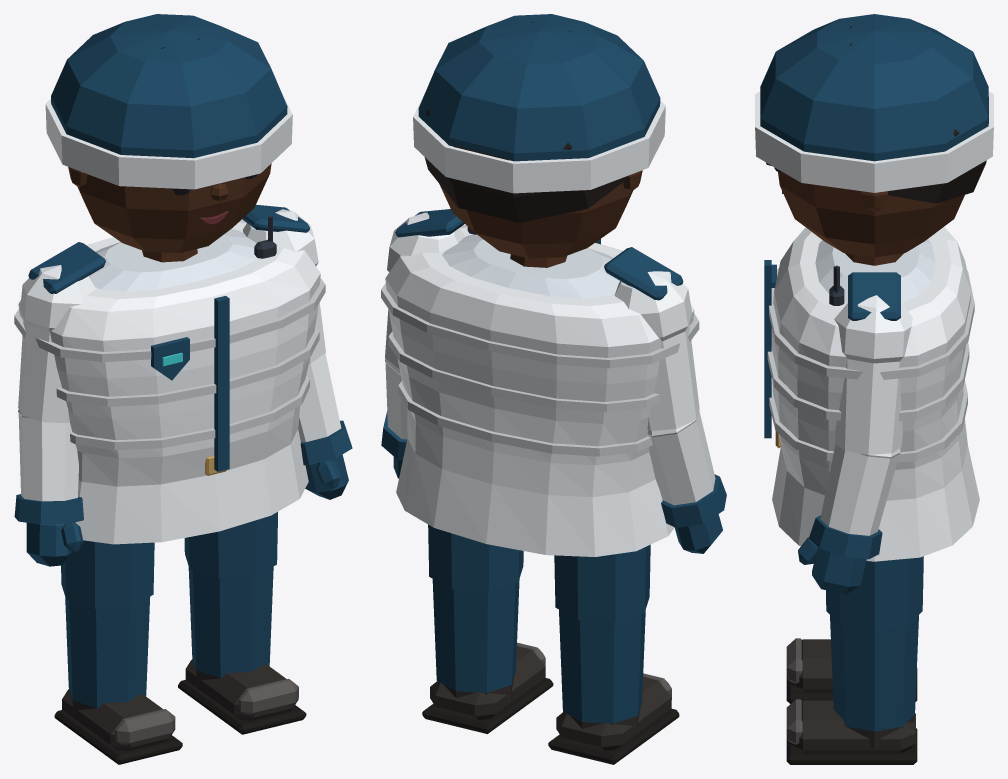
The model's file is sic_fro.glb.
3 renders of one model, left to right at view 1: azimuth 30°, elevation 25°; view 2: azimuth 150°, elevation 25°; view 3: azimuth 270°, elevation 25°, orthographic. The views are drawn at different scales.
Visible parts, largest first — view 1: parka, kopfbedeckung, bein_r, arm_r, bein_l, kopf, schuh_r, schuh_l, torso, arm_l, schulterklappen, hand_r (+3 smaller); view 2: parka, kopfbedeckung, bein_r, bein_l, arm_r, kopf, torso, schuh_r, schuh_l, haare, arm_l, schulterklappen (+1 smaller); view 3: parka, kopfbedeckung, arm_l, bein_l, kopf, schuh_l, torso, schuh_r, hand_l, schulterklappen, haare, hals (+1 smaller).
Boxes of the visible parts, box(x1,y1,x2,y2) form: parka: box(14, 220, 325, 544); kopfbedeckung: box(45, 14, 292, 189); bein_r: box(61, 540, 154, 708); arm_r: box(14, 265, 95, 524); bein_l: box(184, 512, 277, 677); kopf: box(68, 163, 271, 253); schuh_r: box(54, 689, 182, 764); schuh_l: box(178, 659, 306, 734); torso: box(89, 229, 257, 291); arm_l: box(243, 209, 352, 465); schulterklappen: box(28, 204, 309, 293); hand_r: box(26, 522, 83, 566); parka: box(381, 225, 699, 556); kopfbedeckung: box(413, 14, 665, 193); bein_r: box(554, 544, 650, 723); bein_l: box(428, 524, 523, 692); arm_r: box(614, 271, 726, 527); kopf: box(439, 170, 642, 258); torso: box(442, 234, 619, 298); schuh_r: box(548, 673, 679, 764); schuh_l: box(422, 642, 553, 733); haare: box(424, 22, 627, 222); arm_l: box(381, 212, 464, 460); schulterklappen: box(395, 209, 683, 300); parka: box(764, 227, 979, 561); kopfbedeckung: box(755, 14, 993, 192); arm_l: box(809, 295, 912, 559); bein_l: box(826, 556, 923, 731); kopf: box(778, 171, 964, 257); schuh_l: box(786, 699, 917, 764); torso: box(815, 239, 935, 302); schuh_r: box(786, 638, 917, 703); hand_l: box(798, 537, 866, 594); schulterklappen: box(848, 272, 900, 320); haare: box(850, 26, 988, 203); hals: box(845, 253, 903, 265).
Bounding box in the file's own units: 0.0132 × 0.026 × 0.00817.
